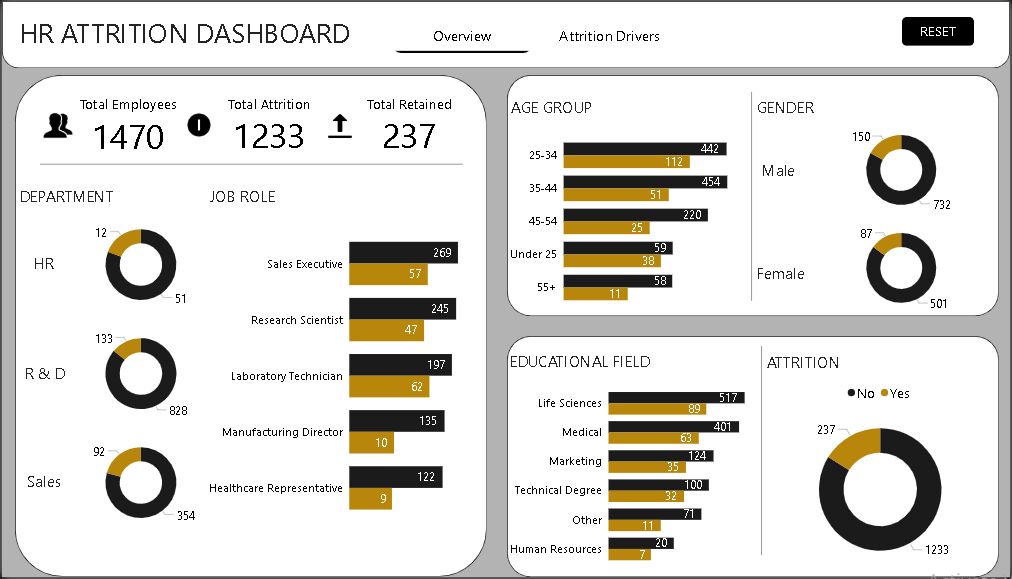

Layout of this report page (visuals, bound fields, positions):
{"tool":"powerbi","page":{"name":"Overview","canvas":[1400,800],"ordinal":0},"visuals":[{"type":"shape","box":[0,0,1400,93.3],"z":0,"group":"g16"},{"type":"shape","box":[701.7,103.3,683.3,335],"z":0},{"type":"group","id":"g1","title":"Group 11","box":[1041.7,166.7,341.7,271.7],"z":0,"group":"g9"},{"type":"group","id":"g2","title":"Group 9","box":[1041.7,166.7,341.7,135.8],"z":0,"group":"g1"},{"type":"group","id":"g3","title":"Group 5","box":[24.6,290,259,151.7],"z":0,"group":"g10"},{"type":"textbox","box":[20,13.3,490,65],"z":1000,"group":"g16"},{"type":"shape","box":[18.3,103.3,655,696.7],"z":1000},{"type":"textbox","box":[1043.4,126.7,170,40],"z":1000,"group":"g9"},{"type":"card","title":"Total Employees","fields":{"Values":["Count(WA_Fn-UseC_-HR-Employee-Attrition.EmployeeNumber)"]},"box":[102.8,130.2,145,85.7],"z":1000,"group":"g14"},{"type":"group","id":"g4","title":"Group 10","box":[1042.3,302.5,341,135.8],"z":1000,"group":"g1"},{"type":"group","id":"g5","title":"Group 6","box":[20,441.7,263.6,151.7],"z":1000,"group":"g10"},{"type":"pageNavigator","box":[541.7,21.7,400,50],"z":2000,"group":"g16"},{"type":"kpi","title":"Total Attrition","fields":{"Indicator":["CountNonNull(WA_Fn-UseC_-HR-Employee-Attrition.EmployeeNumber)"],"TrendLine":["WA_Fn-UseC_-HR-Employee-Attrition.Attrition"]},"box":[298.5,130.2,145.7,85.7],"z":2000,"group":"g17"},{"type":"donutChart","fields":{"Category":["WA_Fn-UseC_-HR-Employee-Attrition.Attrition"],"Y":["CountNonNull(WA_Fn-UseC_-HR-Employee-Attrition.Attrition)"],"Series":["WA_Fn-UseC_-HR-Employee-Attrition.Department"]},"box":[103.3,441.7,180.3,151.7],"z":2000,"group":"g5"},{"type":"shape","box":[701.7,465,683.3,335],"z":2000},{"type":"group","id":"g6","title":"Group 7","box":[24.6,593.3,259,151.7],"z":2000,"group":"g10"},{"type":"actionButton","box":[1250,21.7,100,40],"z":3000,"group":"g16"},{"type":"kpi","title":"Total Retained","fields":{"Indicator":["CountNonNull(WA_Fn-UseC_-HR-Employee-Attrition.EmployeeNumber)"],"TrendLine":["WA_Fn-UseC_-HR-Employee-Attrition.Attrition"]},"box":[494.3,130.2,145.7,85.7],"z":3000,"group":"g18"},{"type":"clusteredBarChart","title":"Age Group","fields":{"Category":["WA_Fn-UseC_-HR-Employee-Attrition.Age Group"],"Series":["WA_Fn-UseC_-HR-Employee-Attrition.Attrition"],"Y":["CountNonNull(WA_Fn-UseC_-HR-Employee-Attrition.Attrition)"]},"box":[700,165,341.7,275],"z":3000,"group":"g8"},{"type":"group","id":"g7","title":"Group 13","box":[283.3,250,390,495],"z":3000},{"type":"donutChart","fields":{"Category":["WA_Fn-UseC_-HR-Employee-Attrition.Attrition"],"Y":["CountNonNull(WA_Fn-UseC_-HR-Employee-Attrition.Attrition)"],"Series":["WA_Fn-UseC_-HR-Employee-Attrition.Department"]},"box":[103.3,290,180.3,151.7],"z":3000,"group":"g3"},{"type":"shape","box":[1028.3,126.6,26.6,290.2],"z":4000},{"type":"donutChart","fields":{"Category":["WA_Fn-UseC_-HR-Employee-Attrition.Attrition"],"Y":["CountNonNull(WA_Fn-UseC_-HR-Employee-Attrition.Attrition)"],"Series":["WA_Fn-UseC_-HR-Employee-Attrition.Gender"]},"box":[1116,166.7,267.4,135.8],"z":4000,"group":"g2"},{"type":"clusteredBarChart","fields":{"Category":["WA_Fn-UseC_-HR-Employee-Attrition.JobRole"],"Series":["WA_Fn-UseC_-HR-Employee-Attrition.Attrition"],"Y":["CountNonNull(WA_Fn-UseC_-HR-Employee-Attrition.Attrition)"]},"box":[283.3,290.6,390,454.4],"z":4000,"group":"g7"},{"type":"donutChart","fields":{"Category":["WA_Fn-UseC_-HR-Employee-Attrition.Attrition"],"Y":["CountNonNull(WA_Fn-UseC_-HR-Employee-Attrition.Attrition)"],"Series":["WA_Fn-UseC_-HR-Employee-Attrition.Department"]},"box":[103.3,593.3,180.3,151.7],"z":4000,"group":"g6"},{"type":"group","id":"g8","title":"Group 14","box":[700,126.7,341.7,313.3],"z":5000},{"type":"donutChart","fields":{"Category":["WA_Fn-UseC_-HR-Employee-Attrition.Attrition"],"Y":["CountNonNull(WA_Fn-UseC_-HR-Employee-Attrition.Attrition)"],"Series":["WA_Fn-UseC_-HR-Employee-Attrition.Gender"]},"box":[1115.9,302.5,267.4,135.8],"z":5000,"group":"g4"},{"type":"clusteredBarChart","title":"Education Field","fields":{"Category":["WA_Fn-UseC_-HR-Employee-Attrition.EducationField"],"Y":["CountNonNull(WA_Fn-UseC_-HR-Employee-Attrition.Attrition)"],"Series":["WA_Fn-UseC_-HR-Employee-Attrition.Attrition"]},"box":[701.7,513.8,355,285],"z":5000,"group":"g11"},{"type":"group","id":"g9","title":"Group 15","box":[1041.7,126.7,341.7,311.7],"z":6000},{"type":"shape","box":[1041.5,479.2,26.4,290.6],"z":7000},{"type":"donutChart","fields":{"Category":["WA_Fn-UseC_-HR-Employee-Attrition.Attrition"],"Y":["CountNonNull(WA_Fn-UseC_-HR-Employee-Attrition.Attrition)"]},"box":[1055,520,328.3,280],"z":7500,"group":"g12"},{"type":"group","id":"g10","title":"Group 8","box":[20,290,263.3,455],"z":8000,"group":"g15"},{"type":"group","id":"g11","title":"Group 16","box":[700,479.2,356.7,319.6],"z":8000},{"type":"group","id":"g12","title":"Group 17","box":[1055,480,328.3,320],"z":9000},{"type":"shape","box":[53.3,216.7,586.7,20],"z":10000},{"type":"textbox","box":[1041.7,213.5,74.3,40.8],"z":10001,"group":"g2"},{"type":"textbox","box":[700,479.2,207.5,39.6],"z":10001,"group":"g11"},{"type":"textbox","box":[1042.3,356.3,80,39.6],"z":10002,"group":"g4"},{"type":"textbox","box":[1056.7,480,170,40],"z":10002,"group":"g12"},{"type":"textbox","box":[701.7,126.7,170,40],"z":10004,"group":"g8"},{"type":"textbox","box":[283.5,250,170,40.4],"z":10005,"group":"g7"},{"type":"textbox","box":[20,250,175,40],"z":10006,"group":"g15"},{"type":"group","id":"g13","title":"Group 4","box":[52.8,130.2,587.1,85.7],"z":11000},{"type":"group","id":"g14","title":"Group 1","box":[52.8,130.2,195.7,85.7],"z":11000,"group":"g13"},{"type":"group","id":"g15","title":"Group 12","box":[20,250,263.3,495],"z":12000},{"type":"group","id":"g16","title":"Group 18","box":[0,0,1400,93.3],"z":13000},{"type":"image","box":[52.8,147.3,50,50],"z":13001,"group":"g14"},{"type":"textbox","box":[24.6,343.4,70.1,46.2],"z":13002,"group":"g3"},{"type":"textbox","box":[20,495.6,81.2,46.7],"z":13003,"group":"g5"},{"type":"textbox","box":[24.6,646.7,70.1,46.2],"z":13004,"group":"g6"},{"type":"image","box":[248.5,147.3,50,50],"z":13005,"group":"g17"},{"type":"group","id":"g17","title":"Group 3","box":[248.5,130.2,195.7,85.7],"z":14000,"group":"g13"},{"type":"image","box":[445,148.3,50,50],"z":17000,"group":"g18"},{"type":"group","id":"g18","title":"Group 2","box":[445,130.2,195,85.7],"z":17001,"group":"g13"}]}

Visuals, with their boxes in screenshot pixels (x1, y1, x2, y2), scaled from the page's 1400x800 canvas onto the 1012x579 screenshot:
shape: {"left": 0, "top": 0, "right": 1011, "bottom": 68}
shape: {"left": 507, "top": 75, "right": 1001, "bottom": 317}
"Group 11" group: {"left": 753, "top": 121, "right": 1000, "bottom": 317}
"Group 9" group: {"left": 753, "top": 121, "right": 1000, "bottom": 219}
"Group 5" group: {"left": 18, "top": 210, "right": 205, "bottom": 320}
textbox: {"left": 14, "top": 10, "right": 369, "bottom": 57}
shape: {"left": 13, "top": 75, "right": 487, "bottom": 578}
textbox: {"left": 754, "top": 92, "right": 877, "bottom": 121}
"Total Employees" card: {"left": 74, "top": 94, "right": 179, "bottom": 156}
"Group 10" group: {"left": 753, "top": 219, "right": 1000, "bottom": 317}
"Group 6" group: {"left": 14, "top": 320, "right": 205, "bottom": 429}
pageNavigator: {"left": 392, "top": 16, "right": 681, "bottom": 52}
"Total Attrition" kpi: {"left": 216, "top": 94, "right": 321, "bottom": 156}
donutChart - WA_Fn-UseC_-HR-Employee-Attrition.Attrition x CountNonNull(WA_Fn-UseC_-HR-Employee-Attrition.Attrition): {"left": 75, "top": 320, "right": 205, "bottom": 429}
shape: {"left": 507, "top": 337, "right": 1001, "bottom": 578}
"Group 7" group: {"left": 18, "top": 429, "right": 205, "bottom": 539}
actionButton: {"left": 904, "top": 16, "right": 976, "bottom": 45}
"Total Retained" kpi: {"left": 357, "top": 94, "right": 463, "bottom": 156}
"Age Group" clusteredBarChart: {"left": 506, "top": 119, "right": 753, "bottom": 318}
"Group 13" group: {"left": 205, "top": 181, "right": 487, "bottom": 539}
donutChart - WA_Fn-UseC_-HR-Employee-Attrition.Attrition x CountNonNull(WA_Fn-UseC_-HR-Employee-Attrition.Attrition): {"left": 75, "top": 210, "right": 205, "bottom": 320}
shape: {"left": 743, "top": 92, "right": 763, "bottom": 302}
donutChart - WA_Fn-UseC_-HR-Employee-Attrition.Attrition x CountNonNull(WA_Fn-UseC_-HR-Employee-Attrition.Attrition): {"left": 807, "top": 121, "right": 1000, "bottom": 219}
clusteredBarChart - WA_Fn-UseC_-HR-Employee-Attrition.JobRole x WA_Fn-UseC_-HR-Employee-Attrition.Attrition: {"left": 205, "top": 210, "right": 487, "bottom": 539}
donutChart - WA_Fn-UseC_-HR-Employee-Attrition.Attrition x CountNonNull(WA_Fn-UseC_-HR-Employee-Attrition.Attrition): {"left": 75, "top": 429, "right": 205, "bottom": 539}
"Group 14" group: {"left": 506, "top": 92, "right": 753, "bottom": 318}
donutChart - WA_Fn-UseC_-HR-Employee-Attrition.Attrition x CountNonNull(WA_Fn-UseC_-HR-Employee-Attrition.Attrition): {"left": 807, "top": 219, "right": 1000, "bottom": 317}
"Education Field" clusteredBarChart: {"left": 507, "top": 372, "right": 764, "bottom": 578}
"Group 15" group: {"left": 753, "top": 92, "right": 1000, "bottom": 317}
shape: {"left": 753, "top": 347, "right": 772, "bottom": 557}
donutChart - WA_Fn-UseC_-HR-Employee-Attrition.Attrition x CountNonNull(WA_Fn-UseC_-HR-Employee-Attrition.Attrition): {"left": 763, "top": 376, "right": 1000, "bottom": 578}
"Group 8" group: {"left": 14, "top": 210, "right": 205, "bottom": 539}
"Group 16" group: {"left": 506, "top": 347, "right": 764, "bottom": 578}
"Group 17" group: {"left": 763, "top": 347, "right": 1000, "bottom": 578}
shape: {"left": 39, "top": 157, "right": 463, "bottom": 171}
textbox: {"left": 753, "top": 155, "right": 807, "bottom": 184}
textbox: {"left": 506, "top": 347, "right": 656, "bottom": 375}
textbox: {"left": 753, "top": 258, "right": 811, "bottom": 287}
textbox: {"left": 764, "top": 347, "right": 887, "bottom": 376}
textbox: {"left": 507, "top": 92, "right": 630, "bottom": 121}
textbox: {"left": 205, "top": 181, "right": 328, "bottom": 210}
textbox: {"left": 14, "top": 181, "right": 141, "bottom": 210}
"Group 4" group: {"left": 38, "top": 94, "right": 463, "bottom": 156}
"Group 1" group: {"left": 38, "top": 94, "right": 180, "bottom": 156}
"Group 12" group: {"left": 14, "top": 181, "right": 205, "bottom": 539}
"Group 18" group: {"left": 0, "top": 0, "right": 1011, "bottom": 68}
image: {"left": 38, "top": 107, "right": 74, "bottom": 143}
textbox: {"left": 18, "top": 249, "right": 68, "bottom": 282}
textbox: {"left": 14, "top": 359, "right": 73, "bottom": 392}
textbox: {"left": 18, "top": 468, "right": 68, "bottom": 501}
image: {"left": 180, "top": 107, "right": 216, "bottom": 143}
"Group 3" group: {"left": 180, "top": 94, "right": 321, "bottom": 156}
image: {"left": 322, "top": 107, "right": 358, "bottom": 144}
"Group 2" group: {"left": 322, "top": 94, "right": 463, "bottom": 156}
